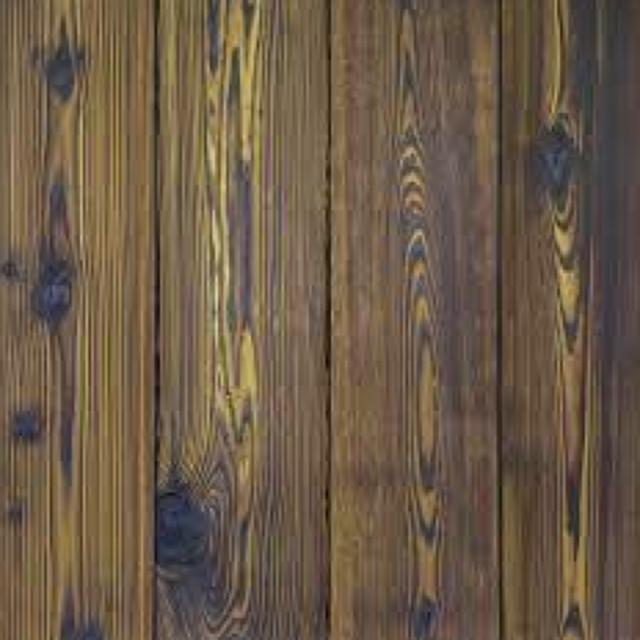have-wooden-eyes: (157, 486, 208, 581), (533, 120, 576, 189), (33, 261, 71, 328), (46, 52, 74, 98)
perfect-wooden-plate: (329, 0, 497, 640)
